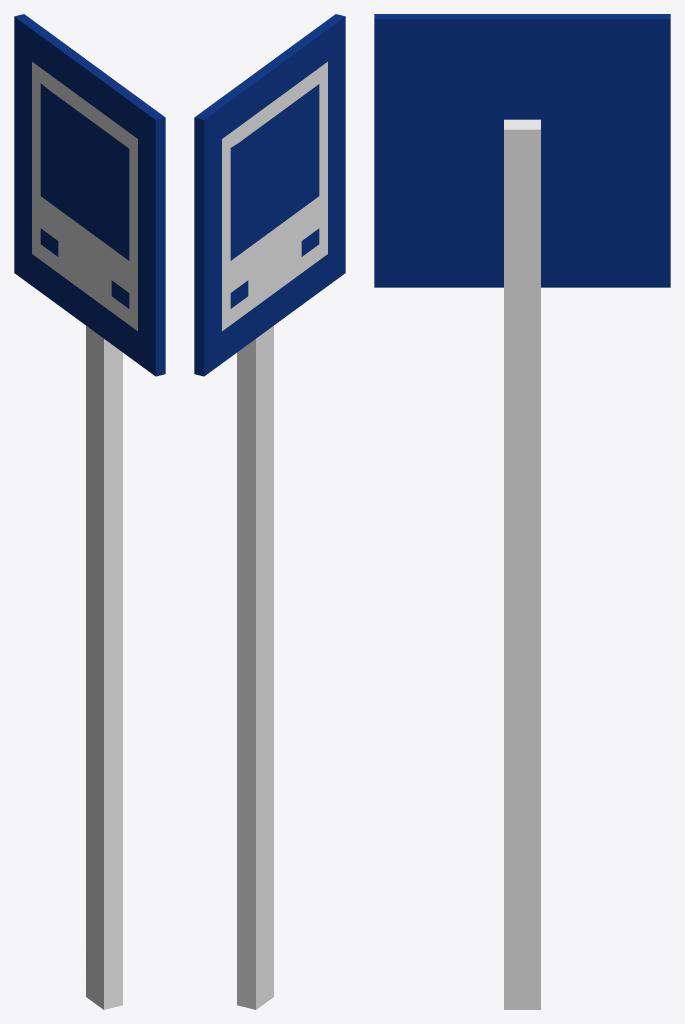
Rendered from ponto.fbx.
3 views of the same model, side by side, from view 1: azimuth 30°, elevation 25°; view 2: azimuth 150°, elevation 25°; view 3: azimuth 270°, elevation 25° (orthographic). The views are drawn at different scales.
Parts seen in each view (by area): view 1: Cube; view 2: Cube; view 3: Cube.
Boxes of the visible parts, bbox=[...] form: Cube: bbox=[14, 14, 165, 1009]; Cube: bbox=[194, 14, 345, 1009]; Cube: bbox=[374, 14, 670, 1009].
Bounding box in the file's own units: 29.68 × 908 × 248.
